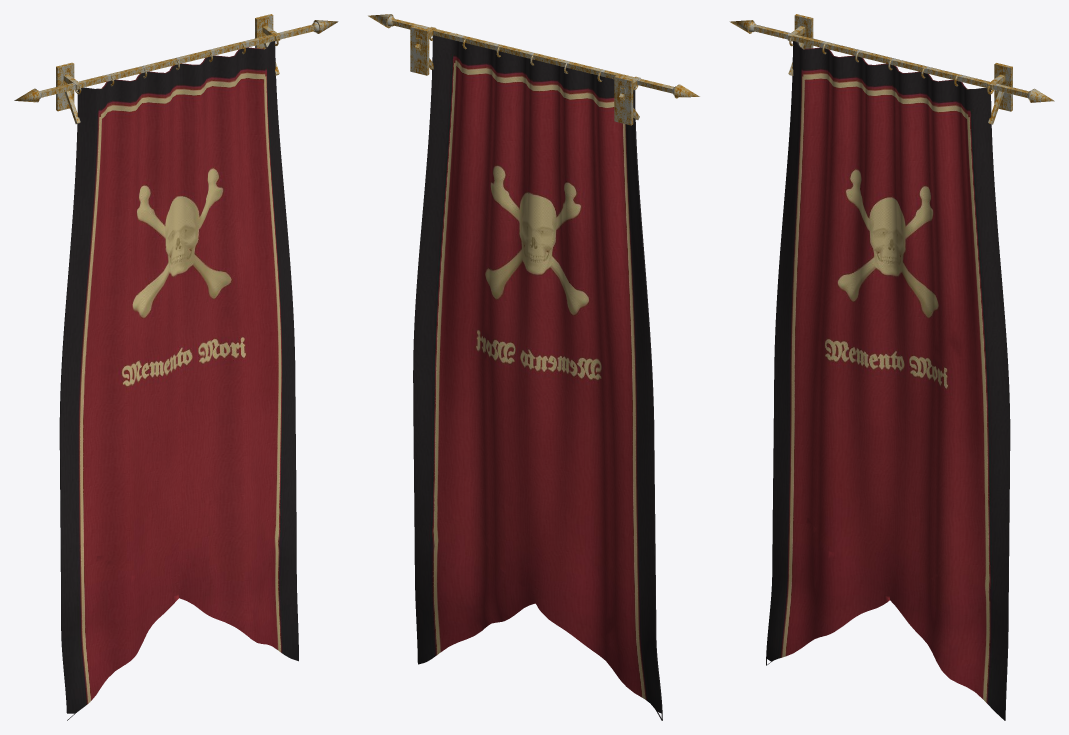
File: banner.glb
3 views of the same model, side by side, from view 1: azimuth 30°, elevation 25°; view 2: azimuth 150°, elevation 25°; view 3: azimuth 330°, elevation 25° (orthographic). The views are drawn at different scales.
Visible parts, largest first — view 1: banner_cloth, banner_rod; view 2: banner_cloth, banner_rod; view 3: banner_cloth, banner_rod.
Boxes of the visible parts, x1,y1,x2,y2 form: banner_cloth: (59,41,298,720); banner_rod: (14,14,338,124); banner_cloth: (413,33,662,720); banner_rod: (368,14,699,125); banner_cloth: (766,41,1010,720); banner_rod: (729,14,1054,124).
Size of the model in its own units: 2.35 by 4.4 by 0.3394.
Materials: 2 (2 with a texture image).
